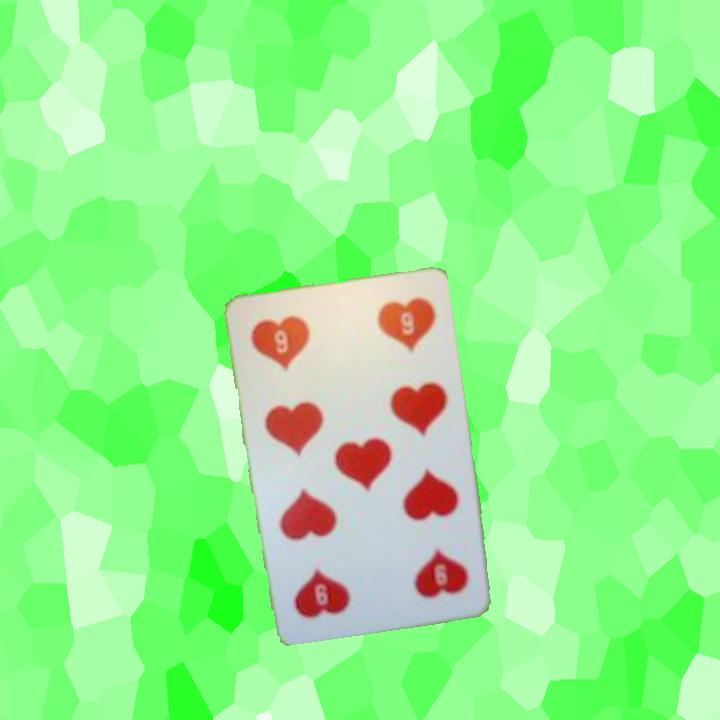h_9.png: (368, 517, 478, 616), (241, 297, 351, 396)
